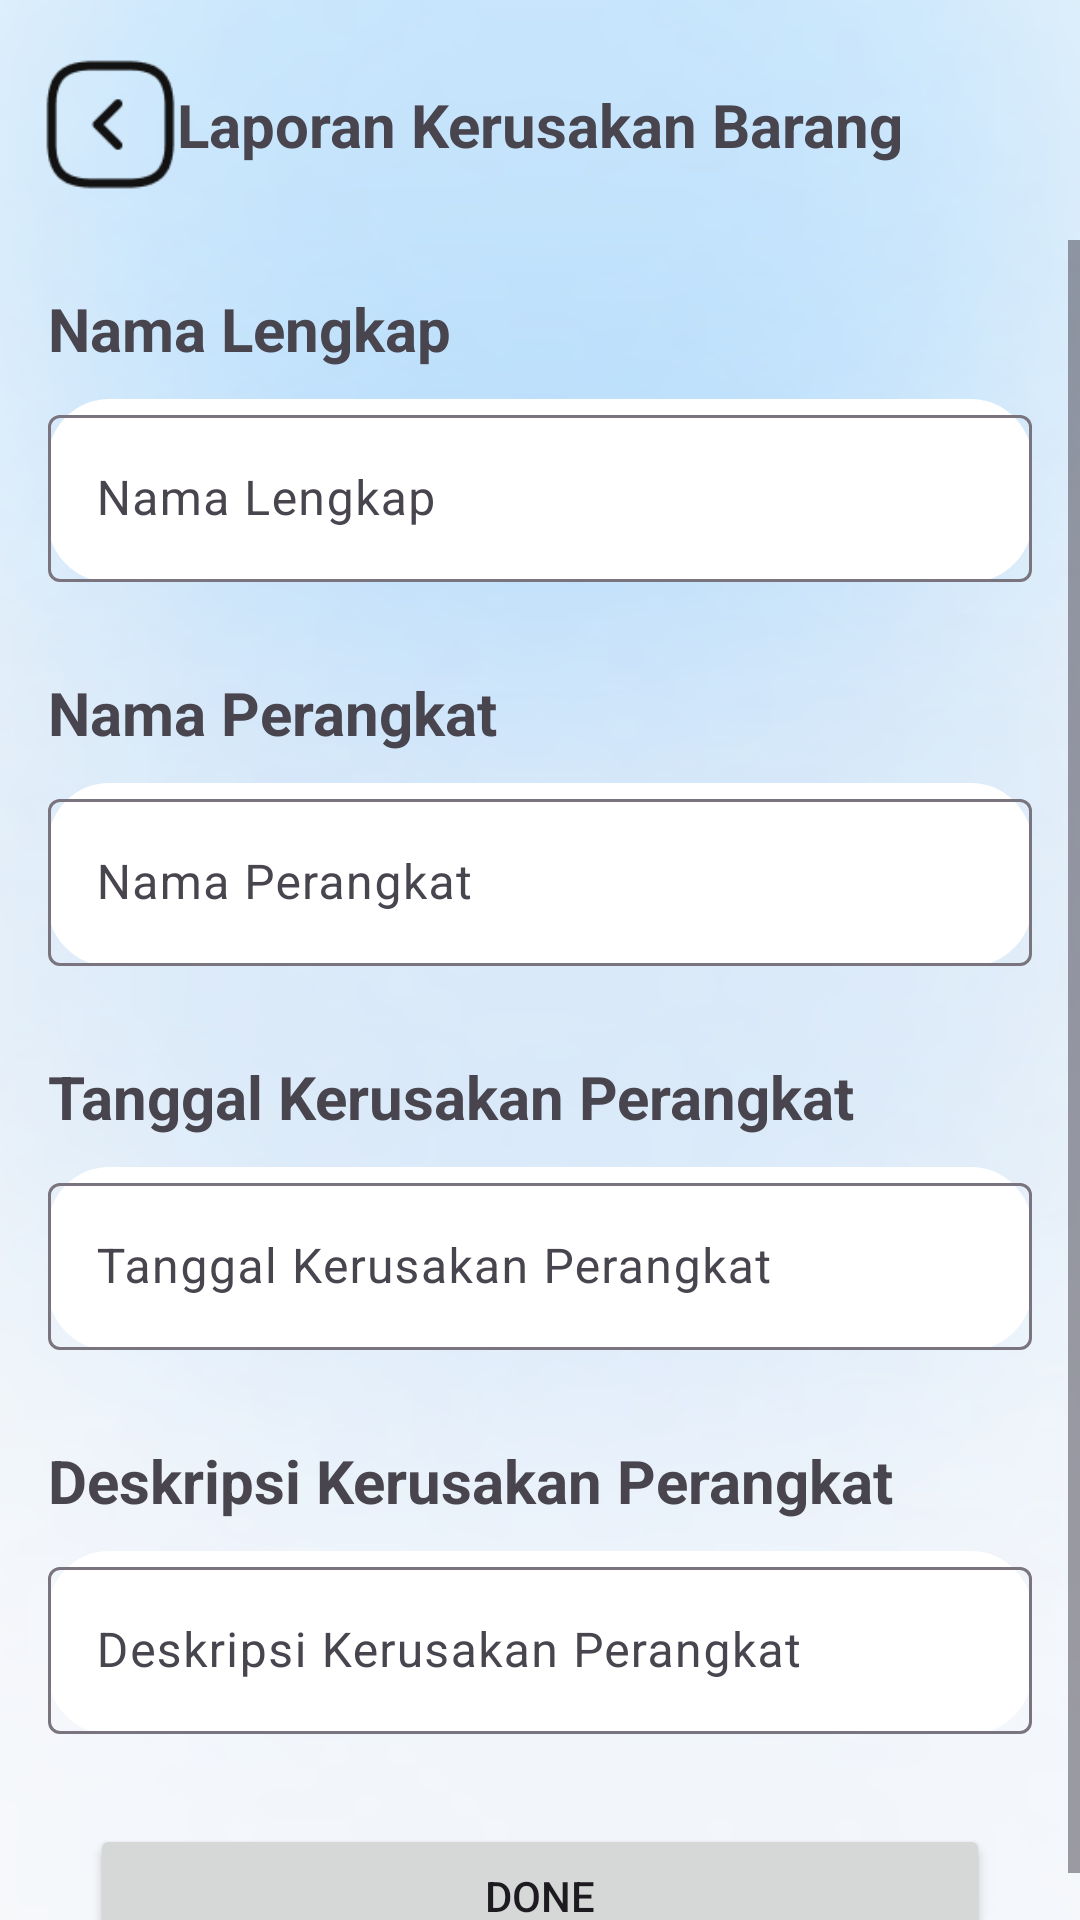

Icons on this 1080 × 1920 Android screen, each with the point to tap as (x,y):
arrow quare left: (110,124)
